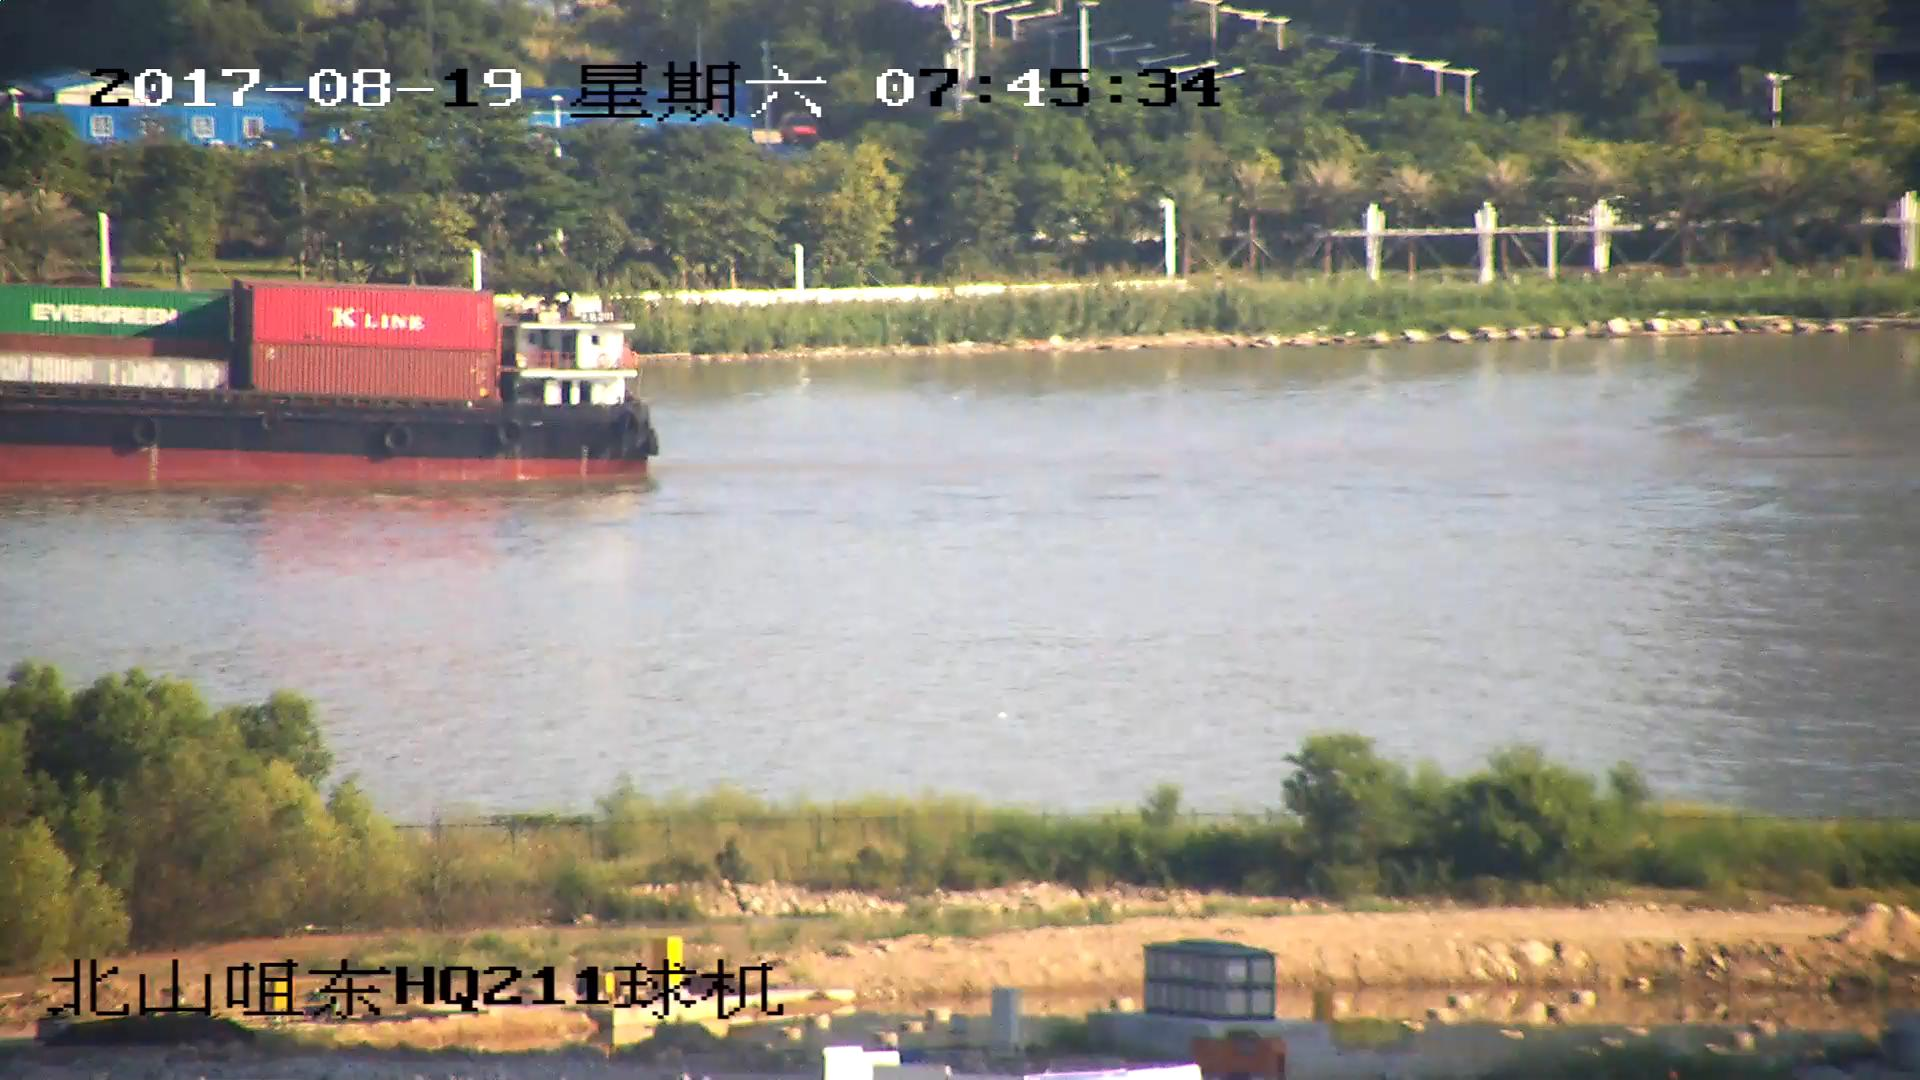container ship: (1, 270, 663, 492)
